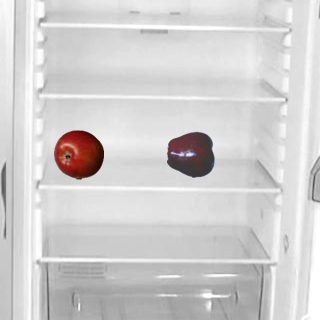Apple Braeburn: (53, 129, 103, 179)
Apple Red Delicious: (166, 129, 216, 179)
